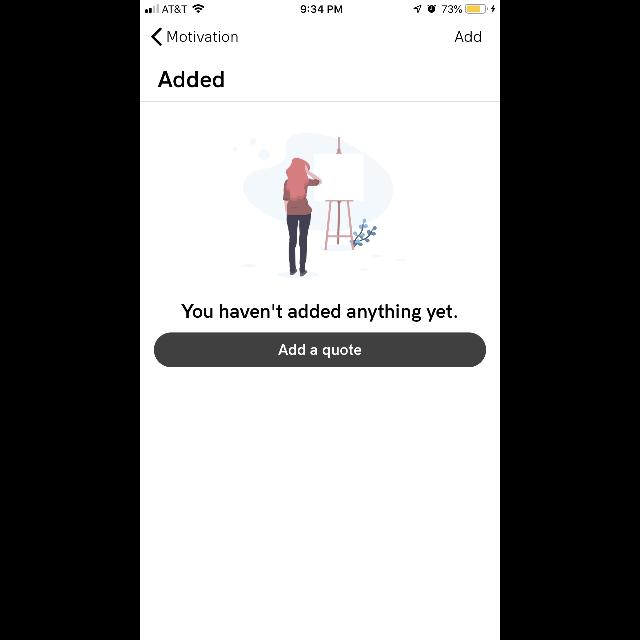icon: (152, 28, 162, 46)
image: (233, 134, 407, 278)
text: (181, 304, 457, 322), (156, 68, 224, 88), (168, 32, 238, 42), (455, 32, 481, 42)
textbutton: (154, 332, 486, 368)
uppertaskbar: (140, 0, 500, 14)
